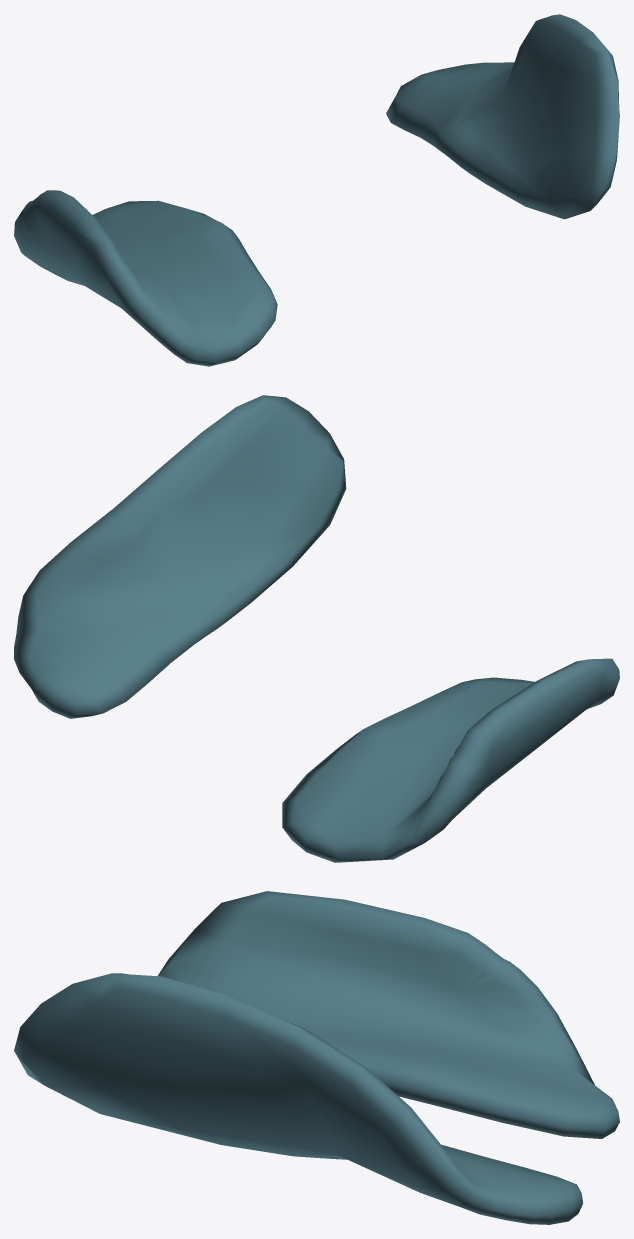
File: Flexor_digitorum_brevis_2nd_medial_phalanx_right.glb
The picture shows the model from 3 angles, top to bottom: view 1: azimuth 30°, elevation 25°; view 2: azimuth 150°, elevation 25°; view 3: azimuth 270°, elevation 25°; orthographic projection. The views are drawn at different scales.
Visible parts, largest first — view 1: Flexor_digitorum_brevis_on_2d_medial_phalanx.r_Generated_Mes; view 2: Flexor_digitorum_brevis_on_2d_medial_phalanx.r_Generated_Mes; view 3: Flexor_digitorum_brevis_on_2d_medial_phalanx.r_Generated_Mes.
Boxes of the visible parts, bbox=[...] form: Flexor_digitorum_brevis_on_2d_medial_phalanx.r_Generated_Mes: bbox=[14, 14, 619, 366]; Flexor_digitorum_brevis_on_2d_medial_phalanx.r_Generated_Mes: bbox=[14, 395, 619, 862]; Flexor_digitorum_brevis_on_2d_medial_phalanx.r_Generated_Mes: bbox=[14, 891, 619, 1224].
Size of the model in its own units: 0.00808 by 0.00399 by 0.00692.
